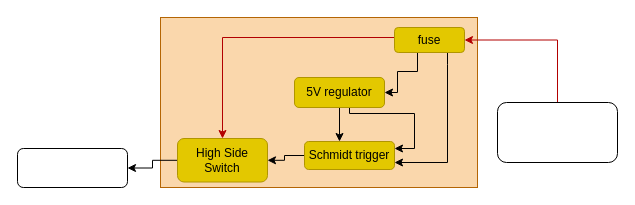
This 635x205 diagram has some shape labels left out. The centre of each missing label's shape, as x and y in pixels:
"Battery" belongs at pixel 557 132.
"Load" belongs at pixel 72 168.
